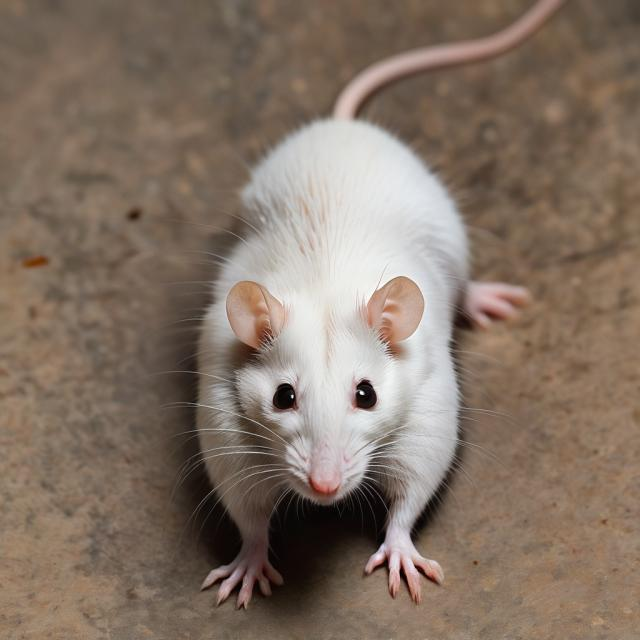rodents: (186, 113, 474, 545)
